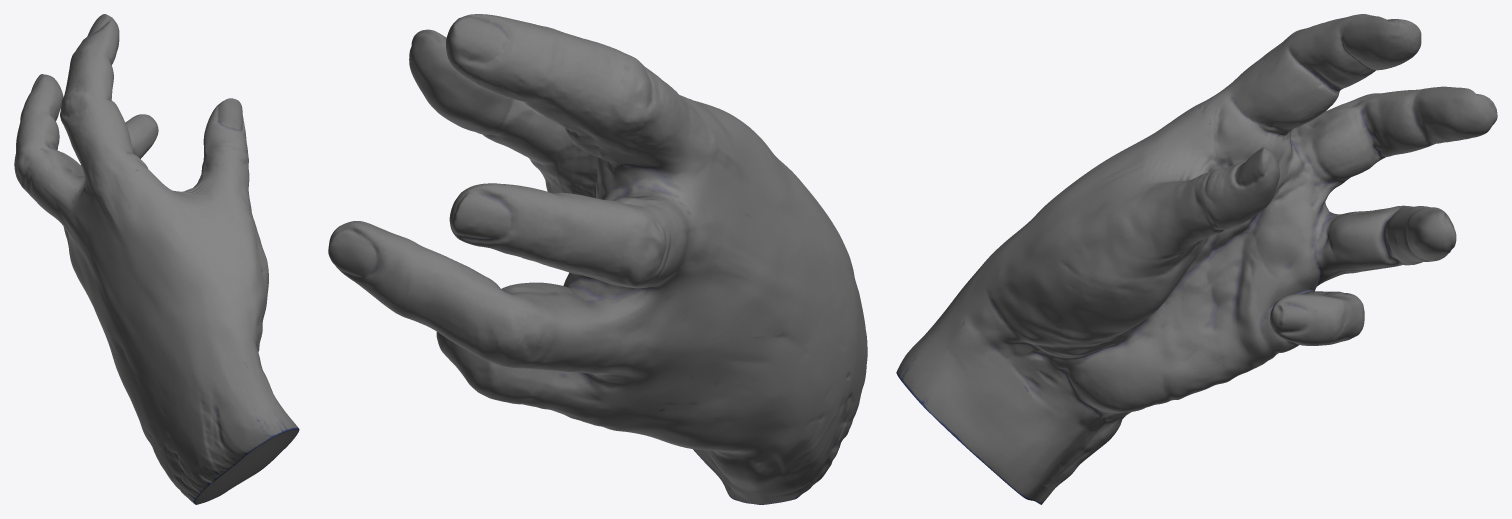
File: hand_gesture1.glb
3 views of the same model, side by side, from view 1: azimuth 30°, elevation 25°; view 2: azimuth 150°, elevation 25°; view 3: azimuth 270°, elevation 25° (orthographic). The views are drawn at different scales.
Parts seen in each view (by area): view 1: Object_2, Object_3; view 2: Object_2, Object_3; view 3: Object_2, Object_3.
Part boxes in pixels (box(x1,y1,x2,y2)): Object_2: box(15, 14, 298, 493); Object_3: box(14, 17, 299, 504); Object_2: box(328, 14, 867, 503); Object_3: box(328, 14, 866, 504); Object_2: box(896, 14, 1497, 502); Object_3: box(899, 15, 1497, 504).
Bounding box in the file's own units: 2.05 × 3.99 × 4.34.
Materials: 1 (1 with a texture image).
